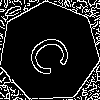C: (24, 27, 82, 81)
